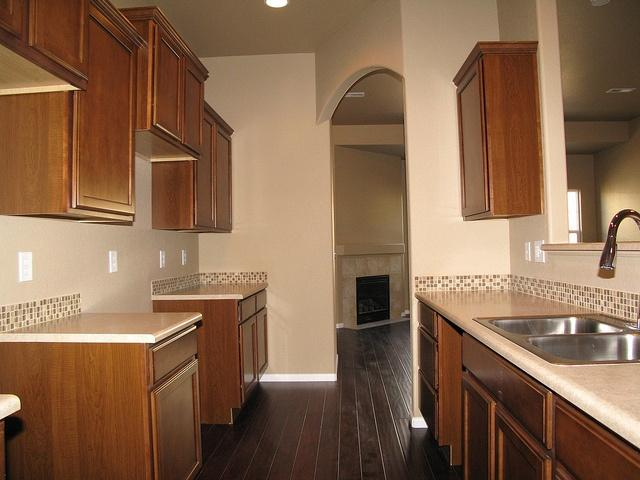Lemari: (67, 0, 137, 221), (148, 5, 205, 160), (451, 41, 493, 220), (192, 96, 231, 231)
